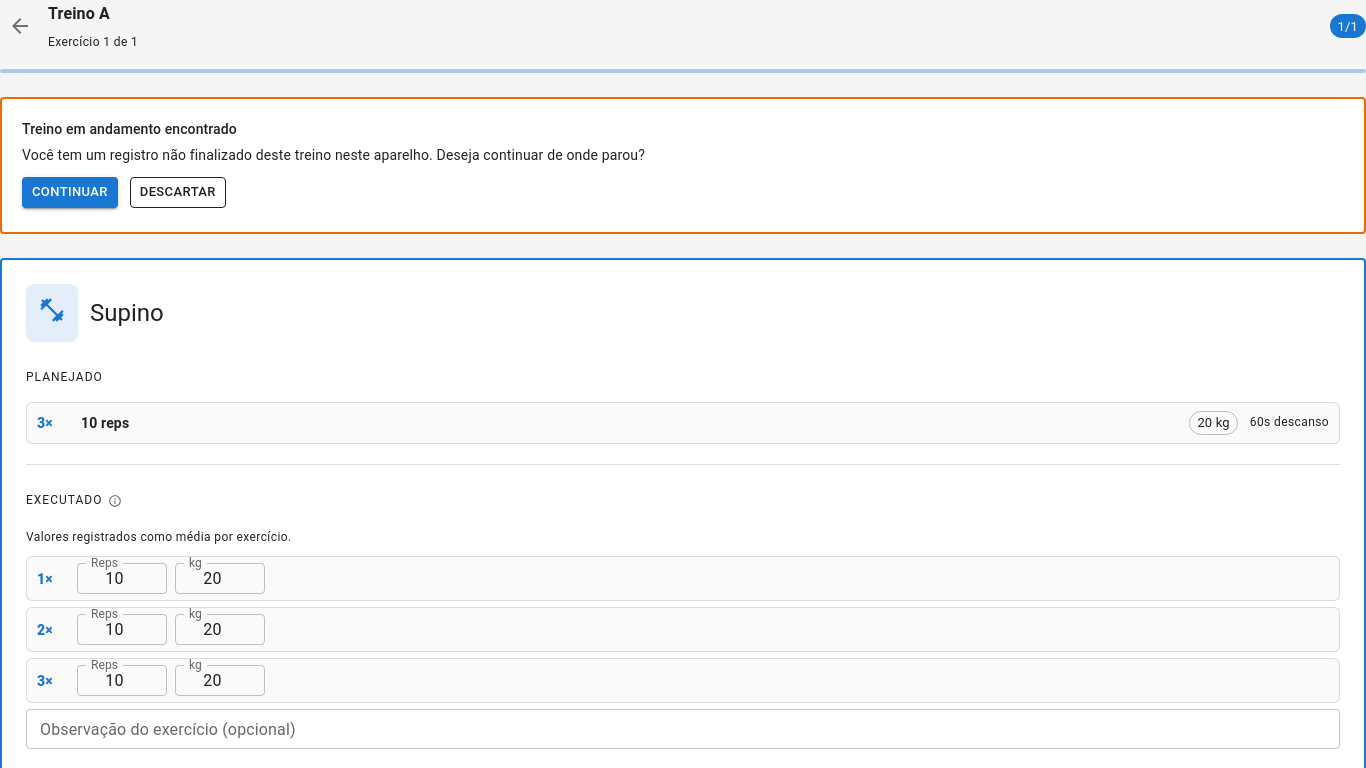
ExecutarFichaPage — hint de agregação por exercício › draft existente exibe banner de restauração e Continuar aplica o estado salvo (EXOFF-02)
The image size is (1366, 768).
Expected: the heading "Supino" is shown, [90,297,164,329]
Expected: the heading "Treino em andamento encontrado" is shown, [22,121,237,137]
Click the button "Continuar" at (70, 192), box [22,177,118,208]
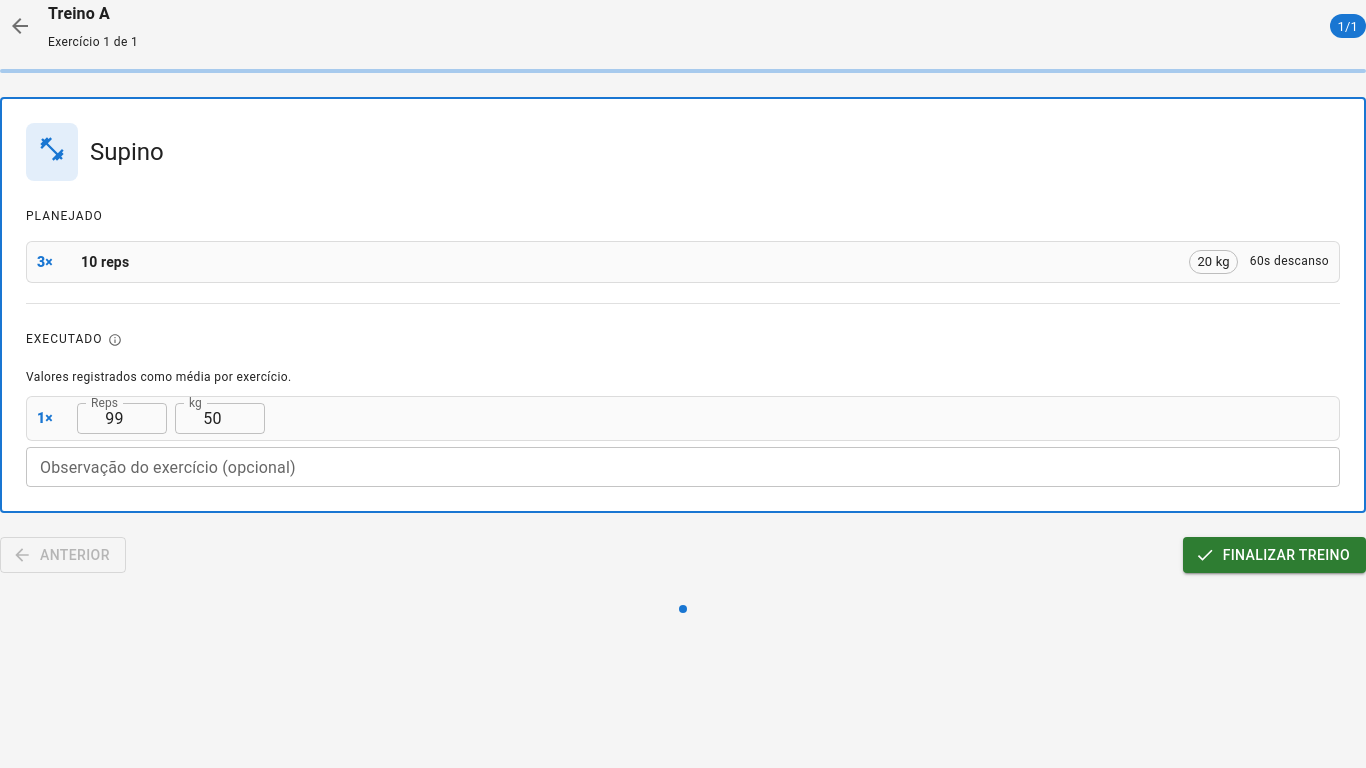
Expected: the number field showing "99" is shown, [77,403,167,434]
